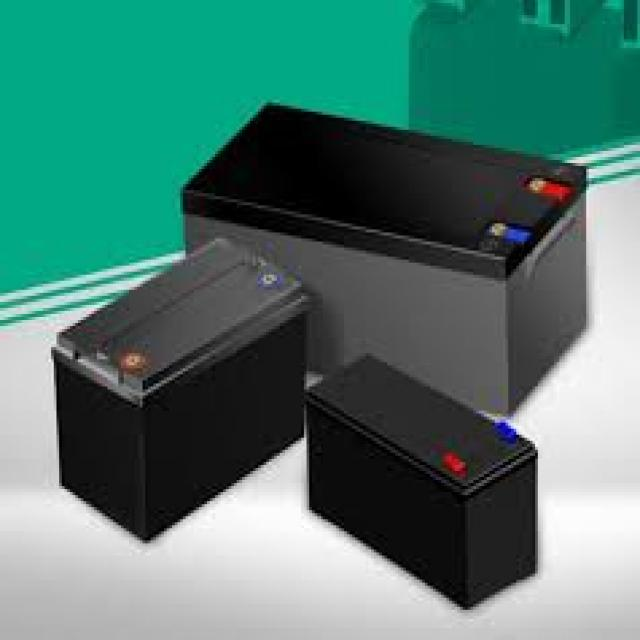hazard: (12, 121, 584, 600)
